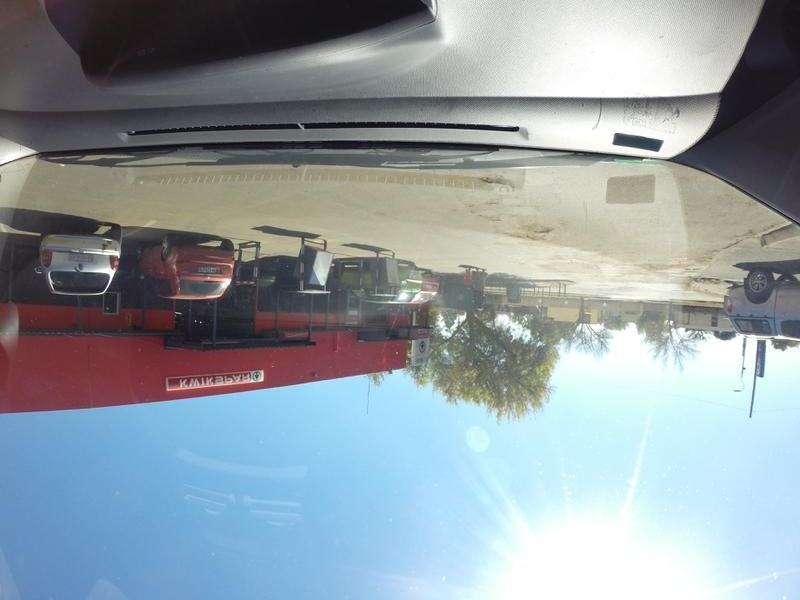pothole: (476, 175, 525, 186), (642, 261, 689, 272), (507, 231, 546, 238), (477, 212, 508, 220), (524, 226, 553, 234), (487, 199, 507, 204)
